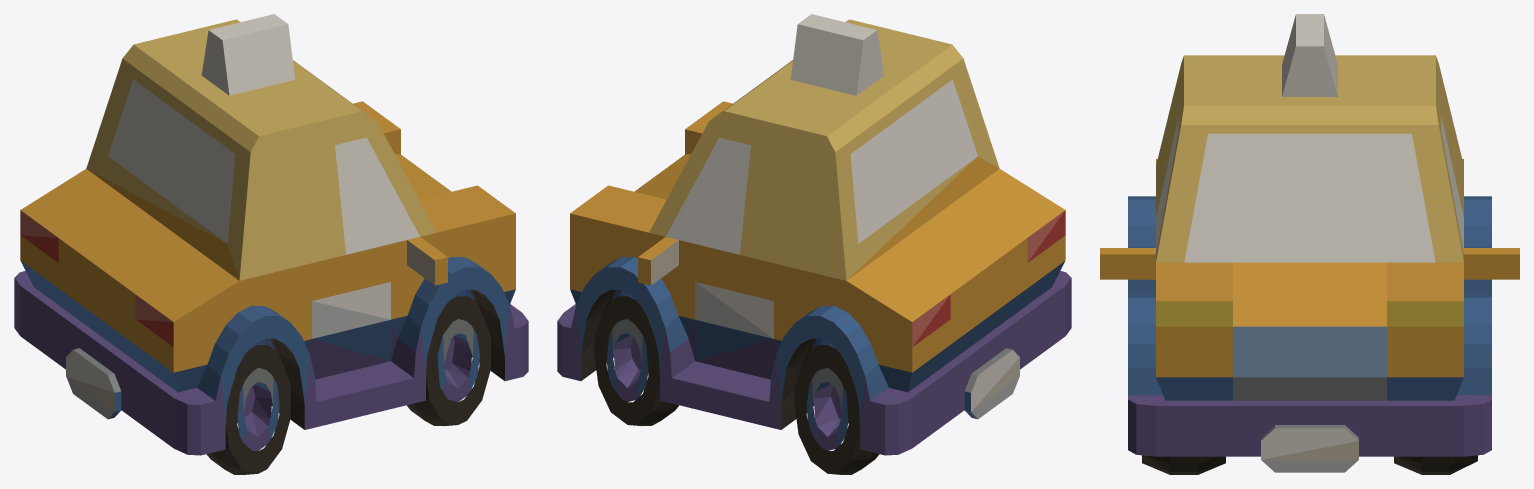
The model's file is taxi.glb.
The picture shows the model from 3 angles, left to right: view 1: azimuth 30°, elevation 25°; view 2: azimuth 150°, elevation 25°; view 3: azimuth 270°, elevation 25°; orthographic projection.
Bounding box in the file's own units: 1 × 1 × 1.
